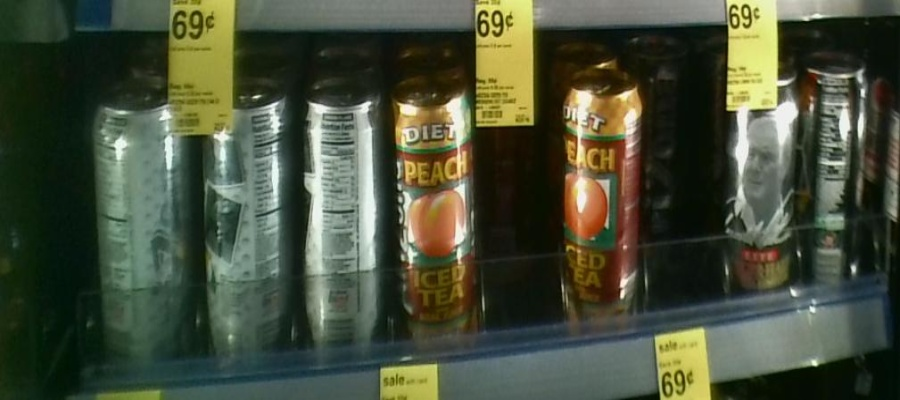bottle: (87, 75, 192, 375), (391, 66, 483, 366), (201, 79, 292, 366), (553, 68, 651, 331), (298, 80, 384, 366), (726, 61, 802, 299), (804, 49, 874, 294)
